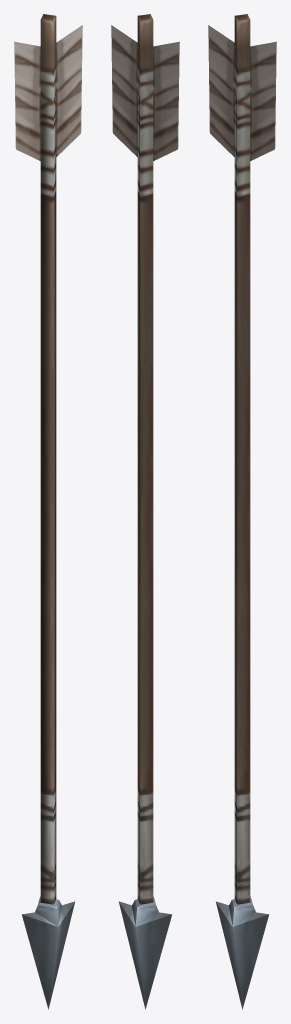
Rendered from ChangGongJian_1_1.fbx.
The picture shows the model from 3 angles, left to right: view 1: azimuth 30°, elevation 25°; view 2: azimuth 150°, elevation 25°; view 3: azimuth 330°, elevation 25°; orthographic projection.
Visible parts, largest first — view 1: ChangGongJian_1_1; view 2: ChangGongJian_1_1; view 3: ChangGongJian_1_1.
Boxes of the visible parts, x1,y1,x2,y2 form: ChangGongJian_1_1: (14, 14, 82, 1009); ChangGongJian_1_1: (111, 14, 179, 1009); ChangGongJian_1_1: (208, 14, 276, 1009).
Bounding box in the file's own units: 9.44 × 131 × 4.72.
1 material, 1 textured.
